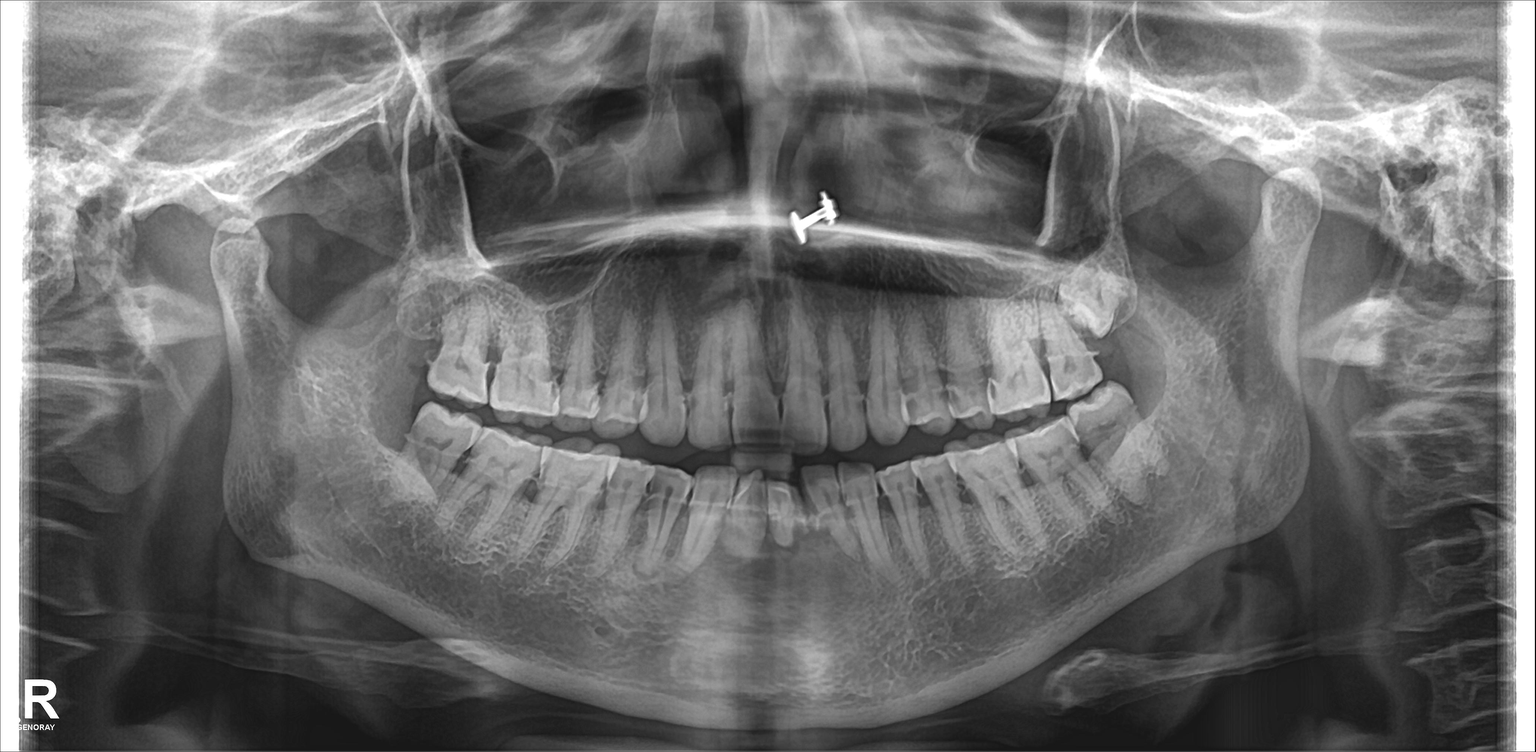Impacted Third Molar: (1067, 266, 1144, 337)
Missing Tooth: (384, 281, 448, 392)
